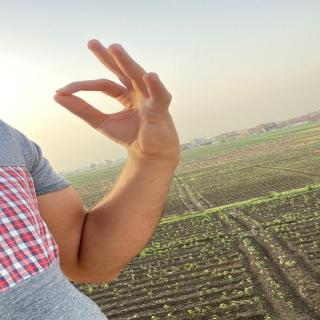Space: (48, 36, 186, 158)
